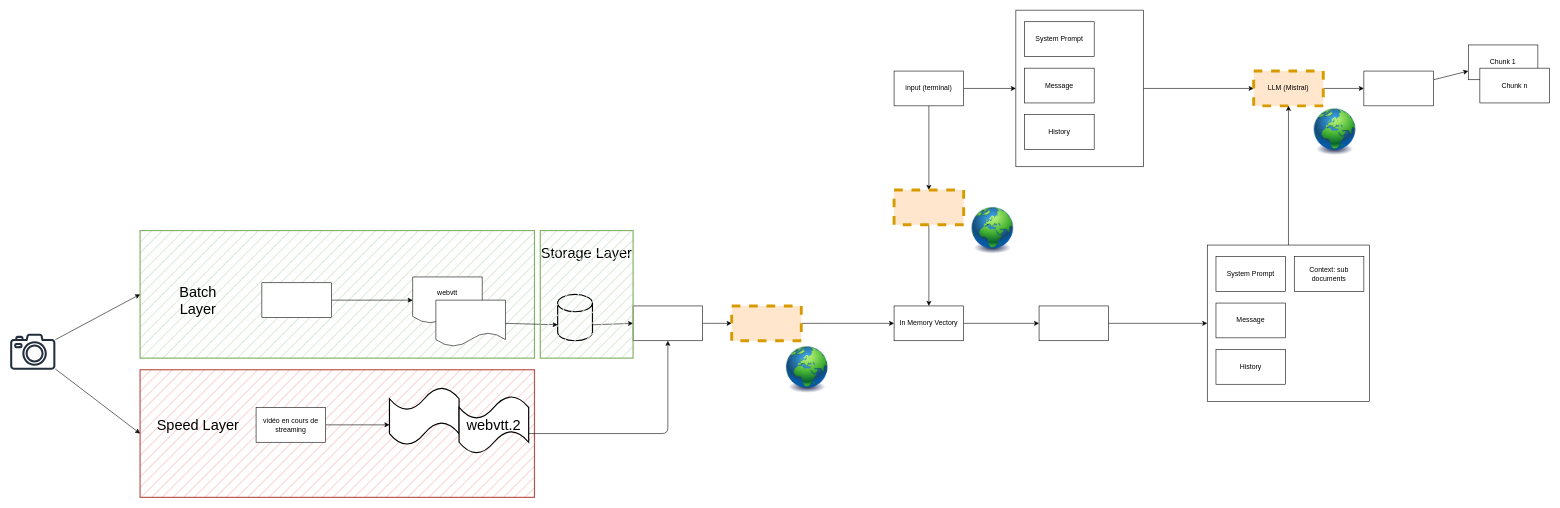
Some shapes in this 1560 by 508 pixel diagram are drawn without their labels. The shapes that lost their labels are listed below. From the top down, each one's centre as x and y in pixels, then its label:
point (1398, 88): Stream
point (928, 207): Embedding (Mistral) input
point (296, 300): vidéo complète
point (470, 323): pdf
point (667, 323): Split
point (766, 323): Embedding (Mistral) documents
point (1073, 323): Sub Document
point (424, 415): webvtt.1
